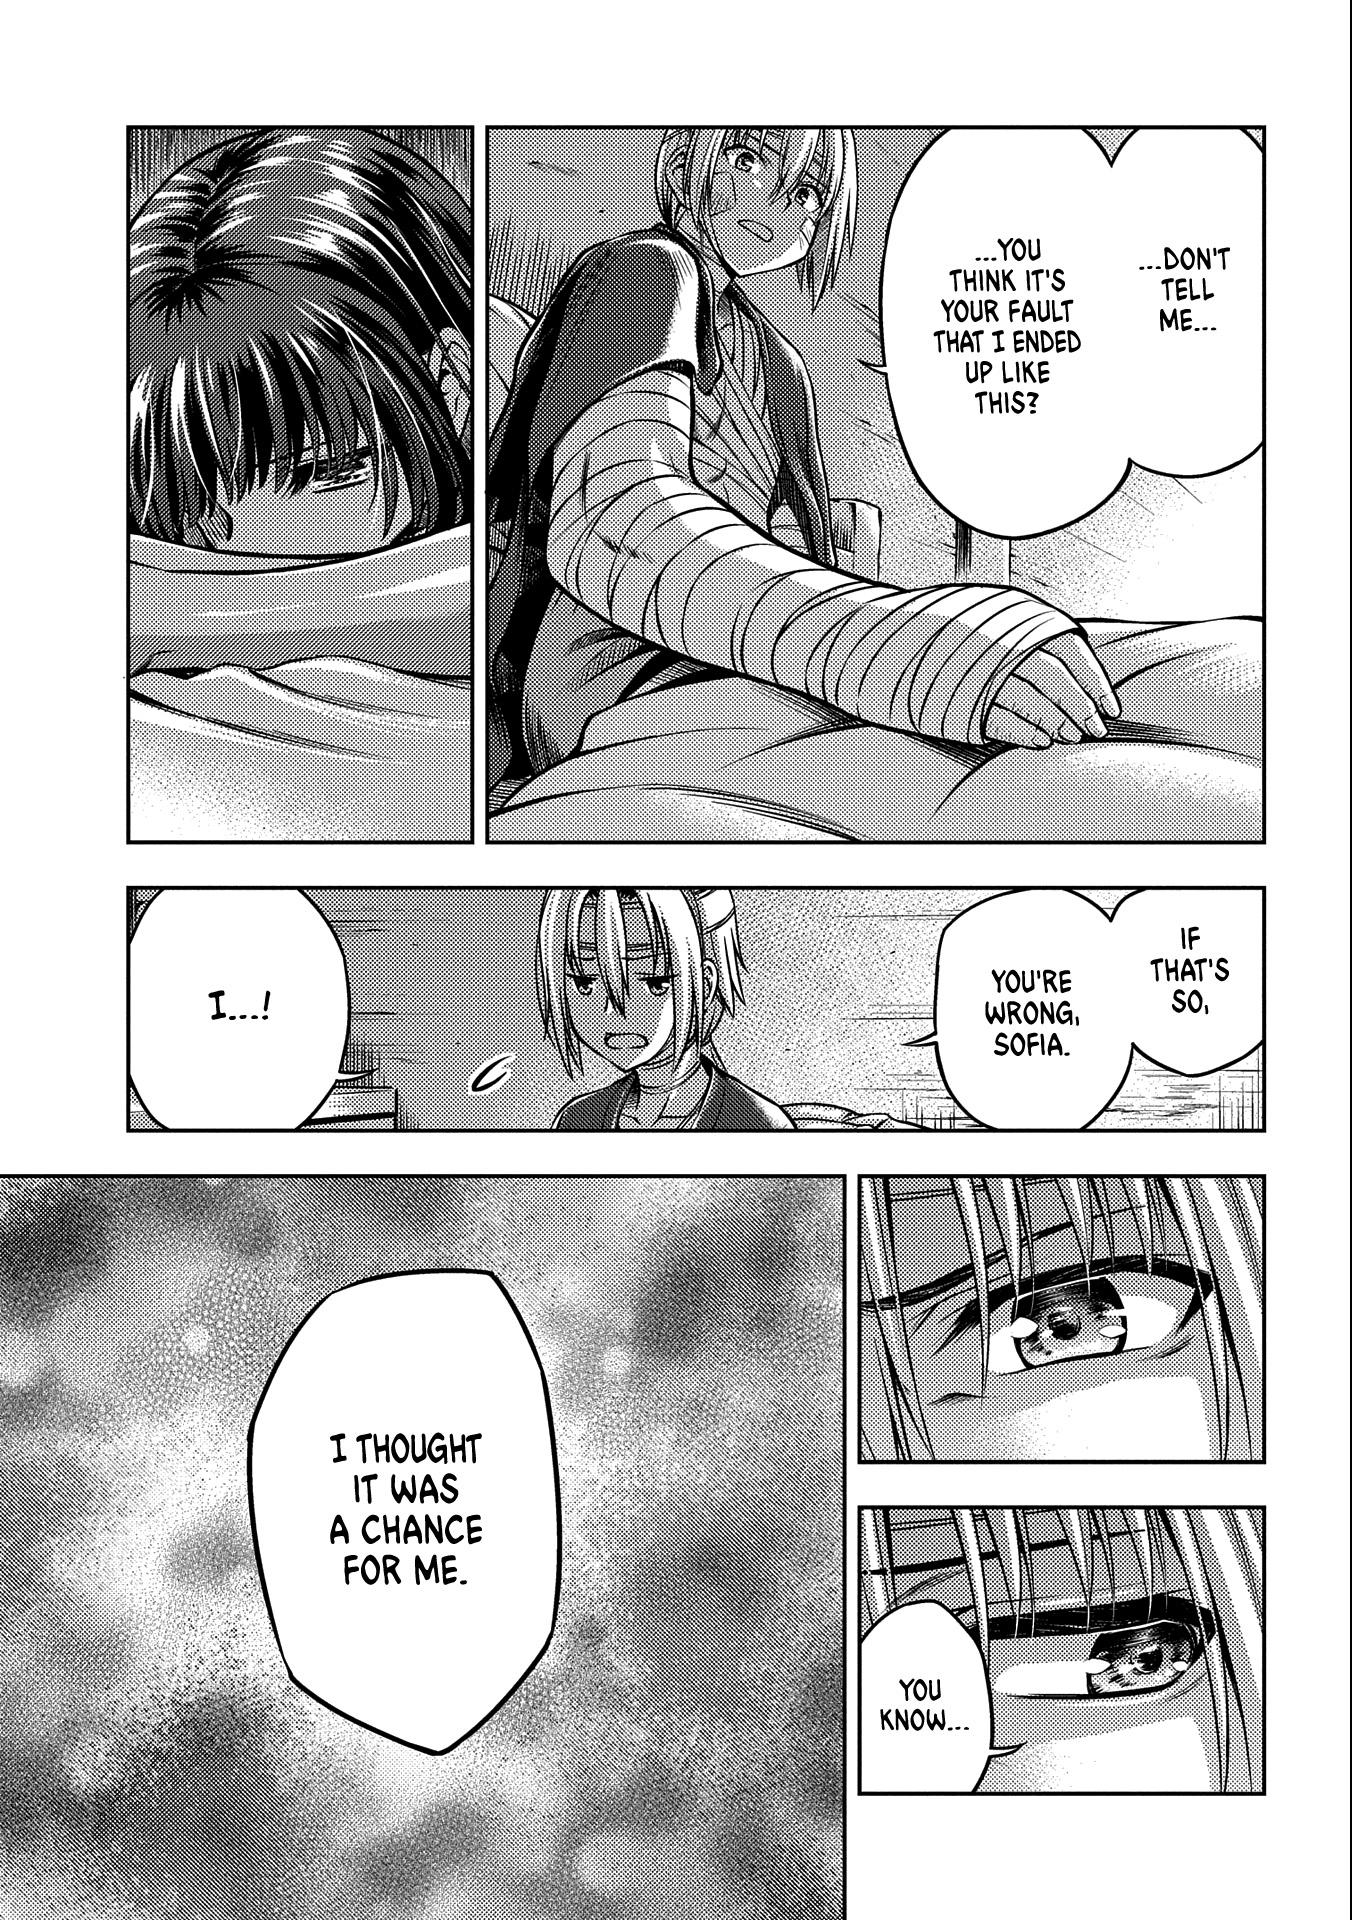Bubble: (243, 1263, 568, 1766), (876, 120, 1111, 541), (119, 885, 358, 1137), (1111, 121, 1269, 480), (923, 882, 1105, 1139), (1111, 880, 1269, 1084), (853, 1595, 998, 1803)
